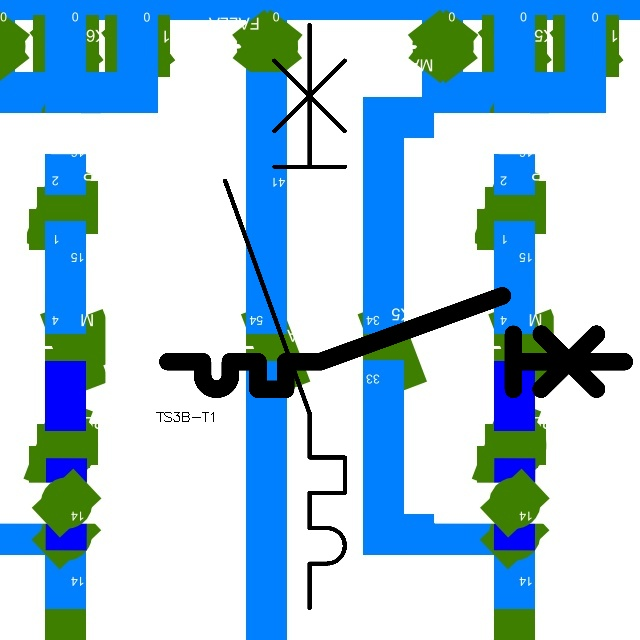interruptor_termomagnetico: (210, 10, 360, 623), (156, 284, 636, 401)
